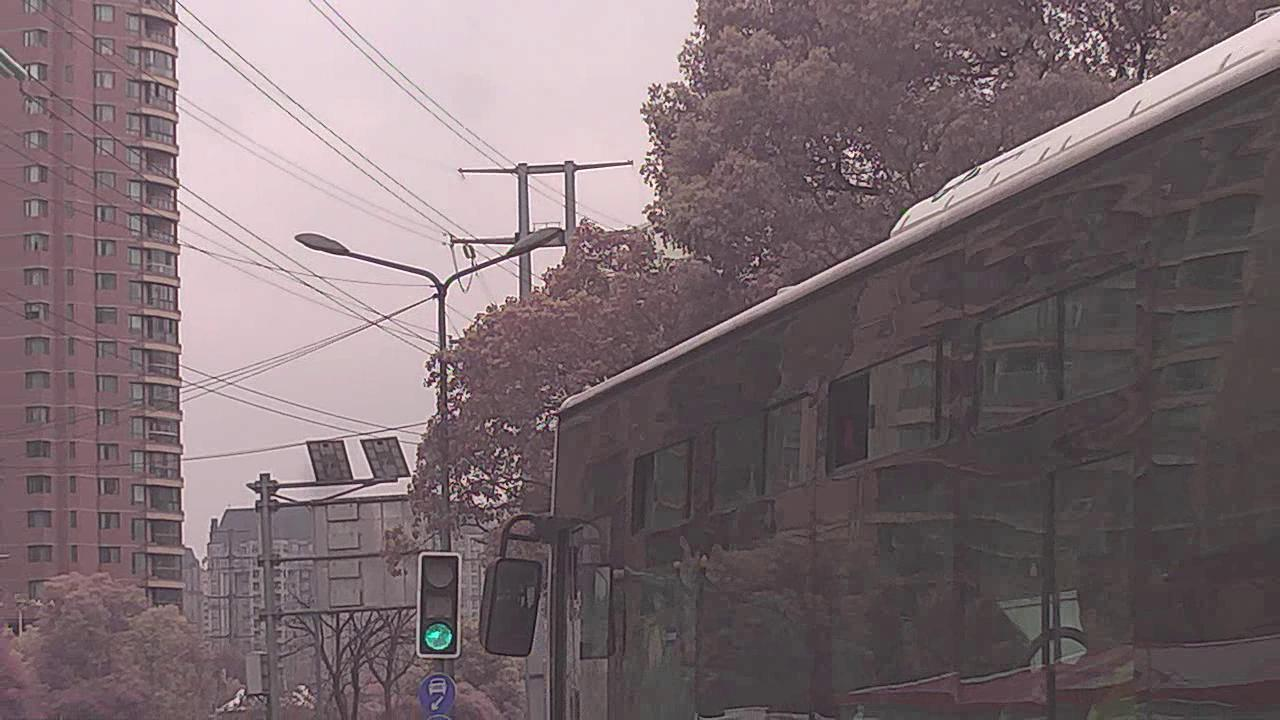traffic_light: (418, 551, 461, 658)
